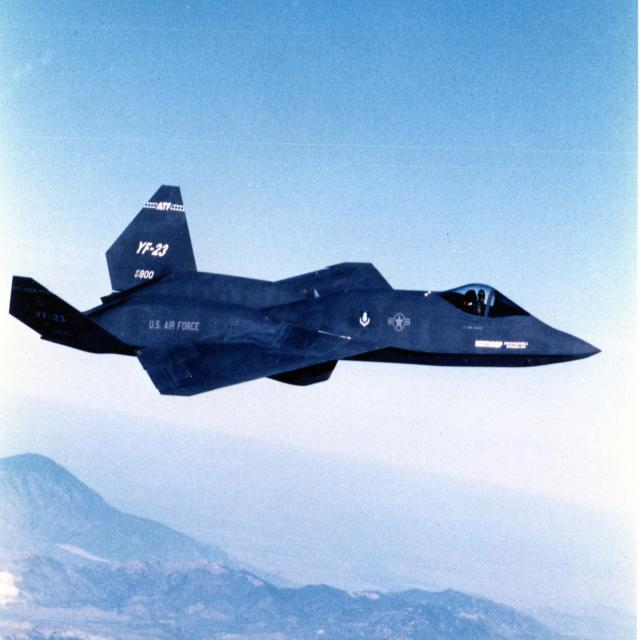MIL_Plane: (8, 184, 602, 396)
